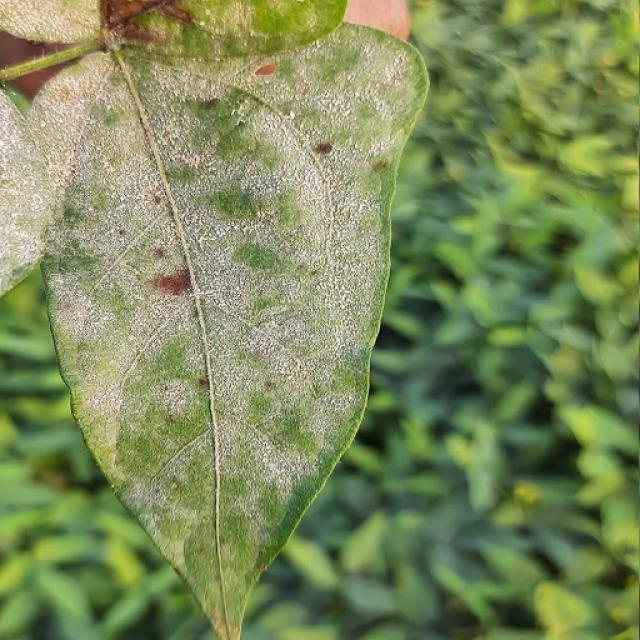Blackgram: (0, 0, 428, 639)
Powdery_Mildew: (53, 226, 194, 458), (216, 241, 353, 419), (185, 250, 276, 484), (263, 171, 385, 340), (127, 56, 264, 169), (274, 51, 402, 155), (184, 140, 293, 256), (98, 164, 187, 253), (49, 281, 120, 375), (80, 110, 148, 198), (53, 244, 104, 285), (304, 44, 363, 78), (60, 205, 86, 230)
